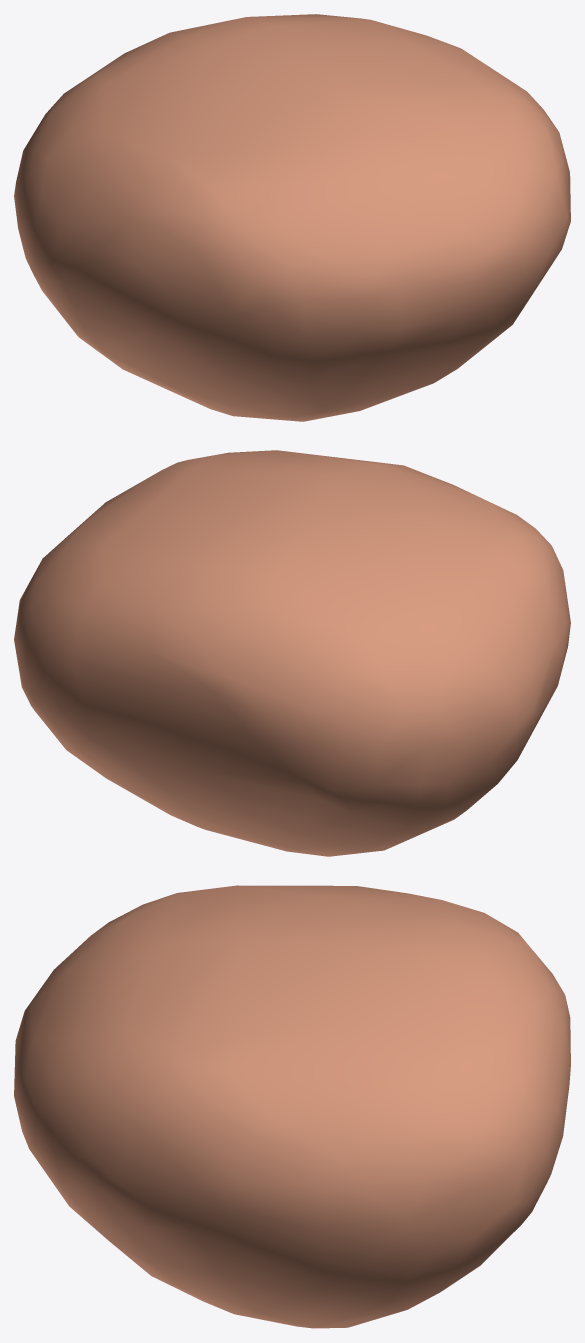
File: prostate.glb
The picture shows the model from 3 angles, top to bottom: view 1: azimuth 30°, elevation 25°; view 2: azimuth 150°, elevation 25°; view 3: azimuth 270°, elevation 25°; orthographic projection. The views are drawn at different scales.
Visible parts, largest first — view 1: Prostate; view 2: Prostate; view 3: Prostate.
Part boxes in pixels (<box>): Prostate: <box>14,14,570,421</box>; Prostate: <box>14,450,570,856</box>; Prostate: <box>14,885,570,1328</box>.
Bounding box in the file's own units: 0.0357 × 0.0234 × 0.0328.
